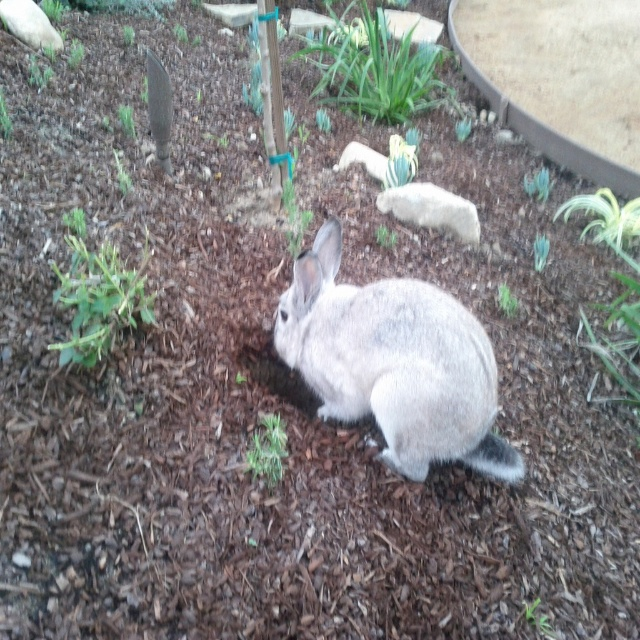Rabbit: (272, 214, 525, 484)
